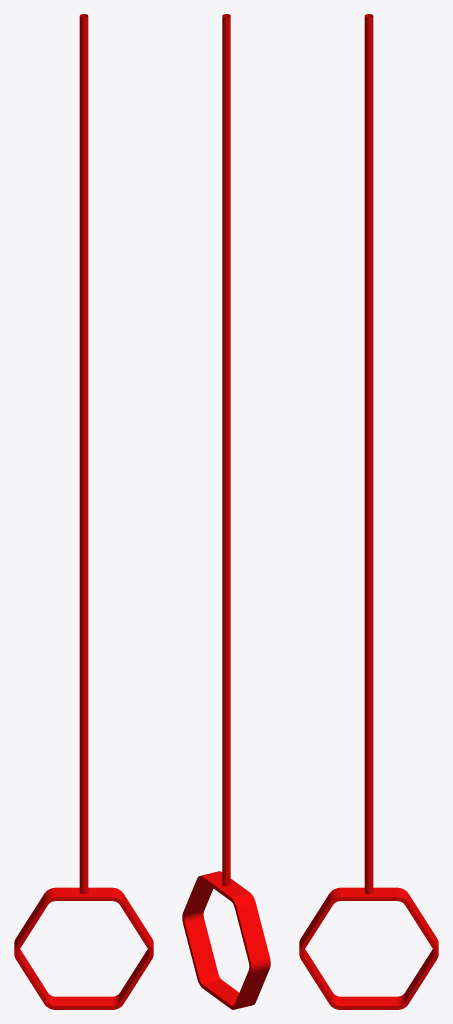
Rendered from cutter1_pencil.fbx.
3 views of the same model, side by side, from view 1: azimuth 90°, elevation 25°; view 2: azimuth 210°, elevation 25°; view 3: azimuth 270°, elevation 25° (orthographic).
Visible parts, largest first — view 1: Cutter1_Pencil; view 2: Cutter1_Pencil; view 3: Cutter1_Pencil.
Part boxes in pixels (<box>): Cutter1_Pencil: <box>14,14,153,1009</box>; Cutter1_Pencil: <box>182,14,270,1009</box>; Cutter1_Pencil: <box>299,14,438,1009</box>.
Bounding box in the file's own units: 16.77 × 816 × 104.
